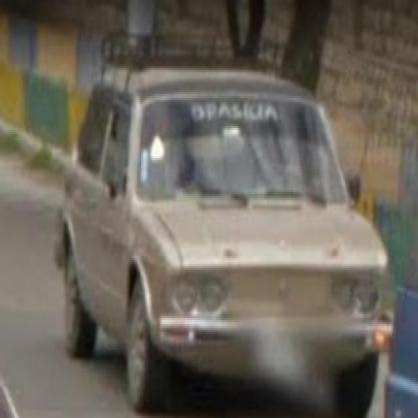car: (61, 34, 384, 418)
